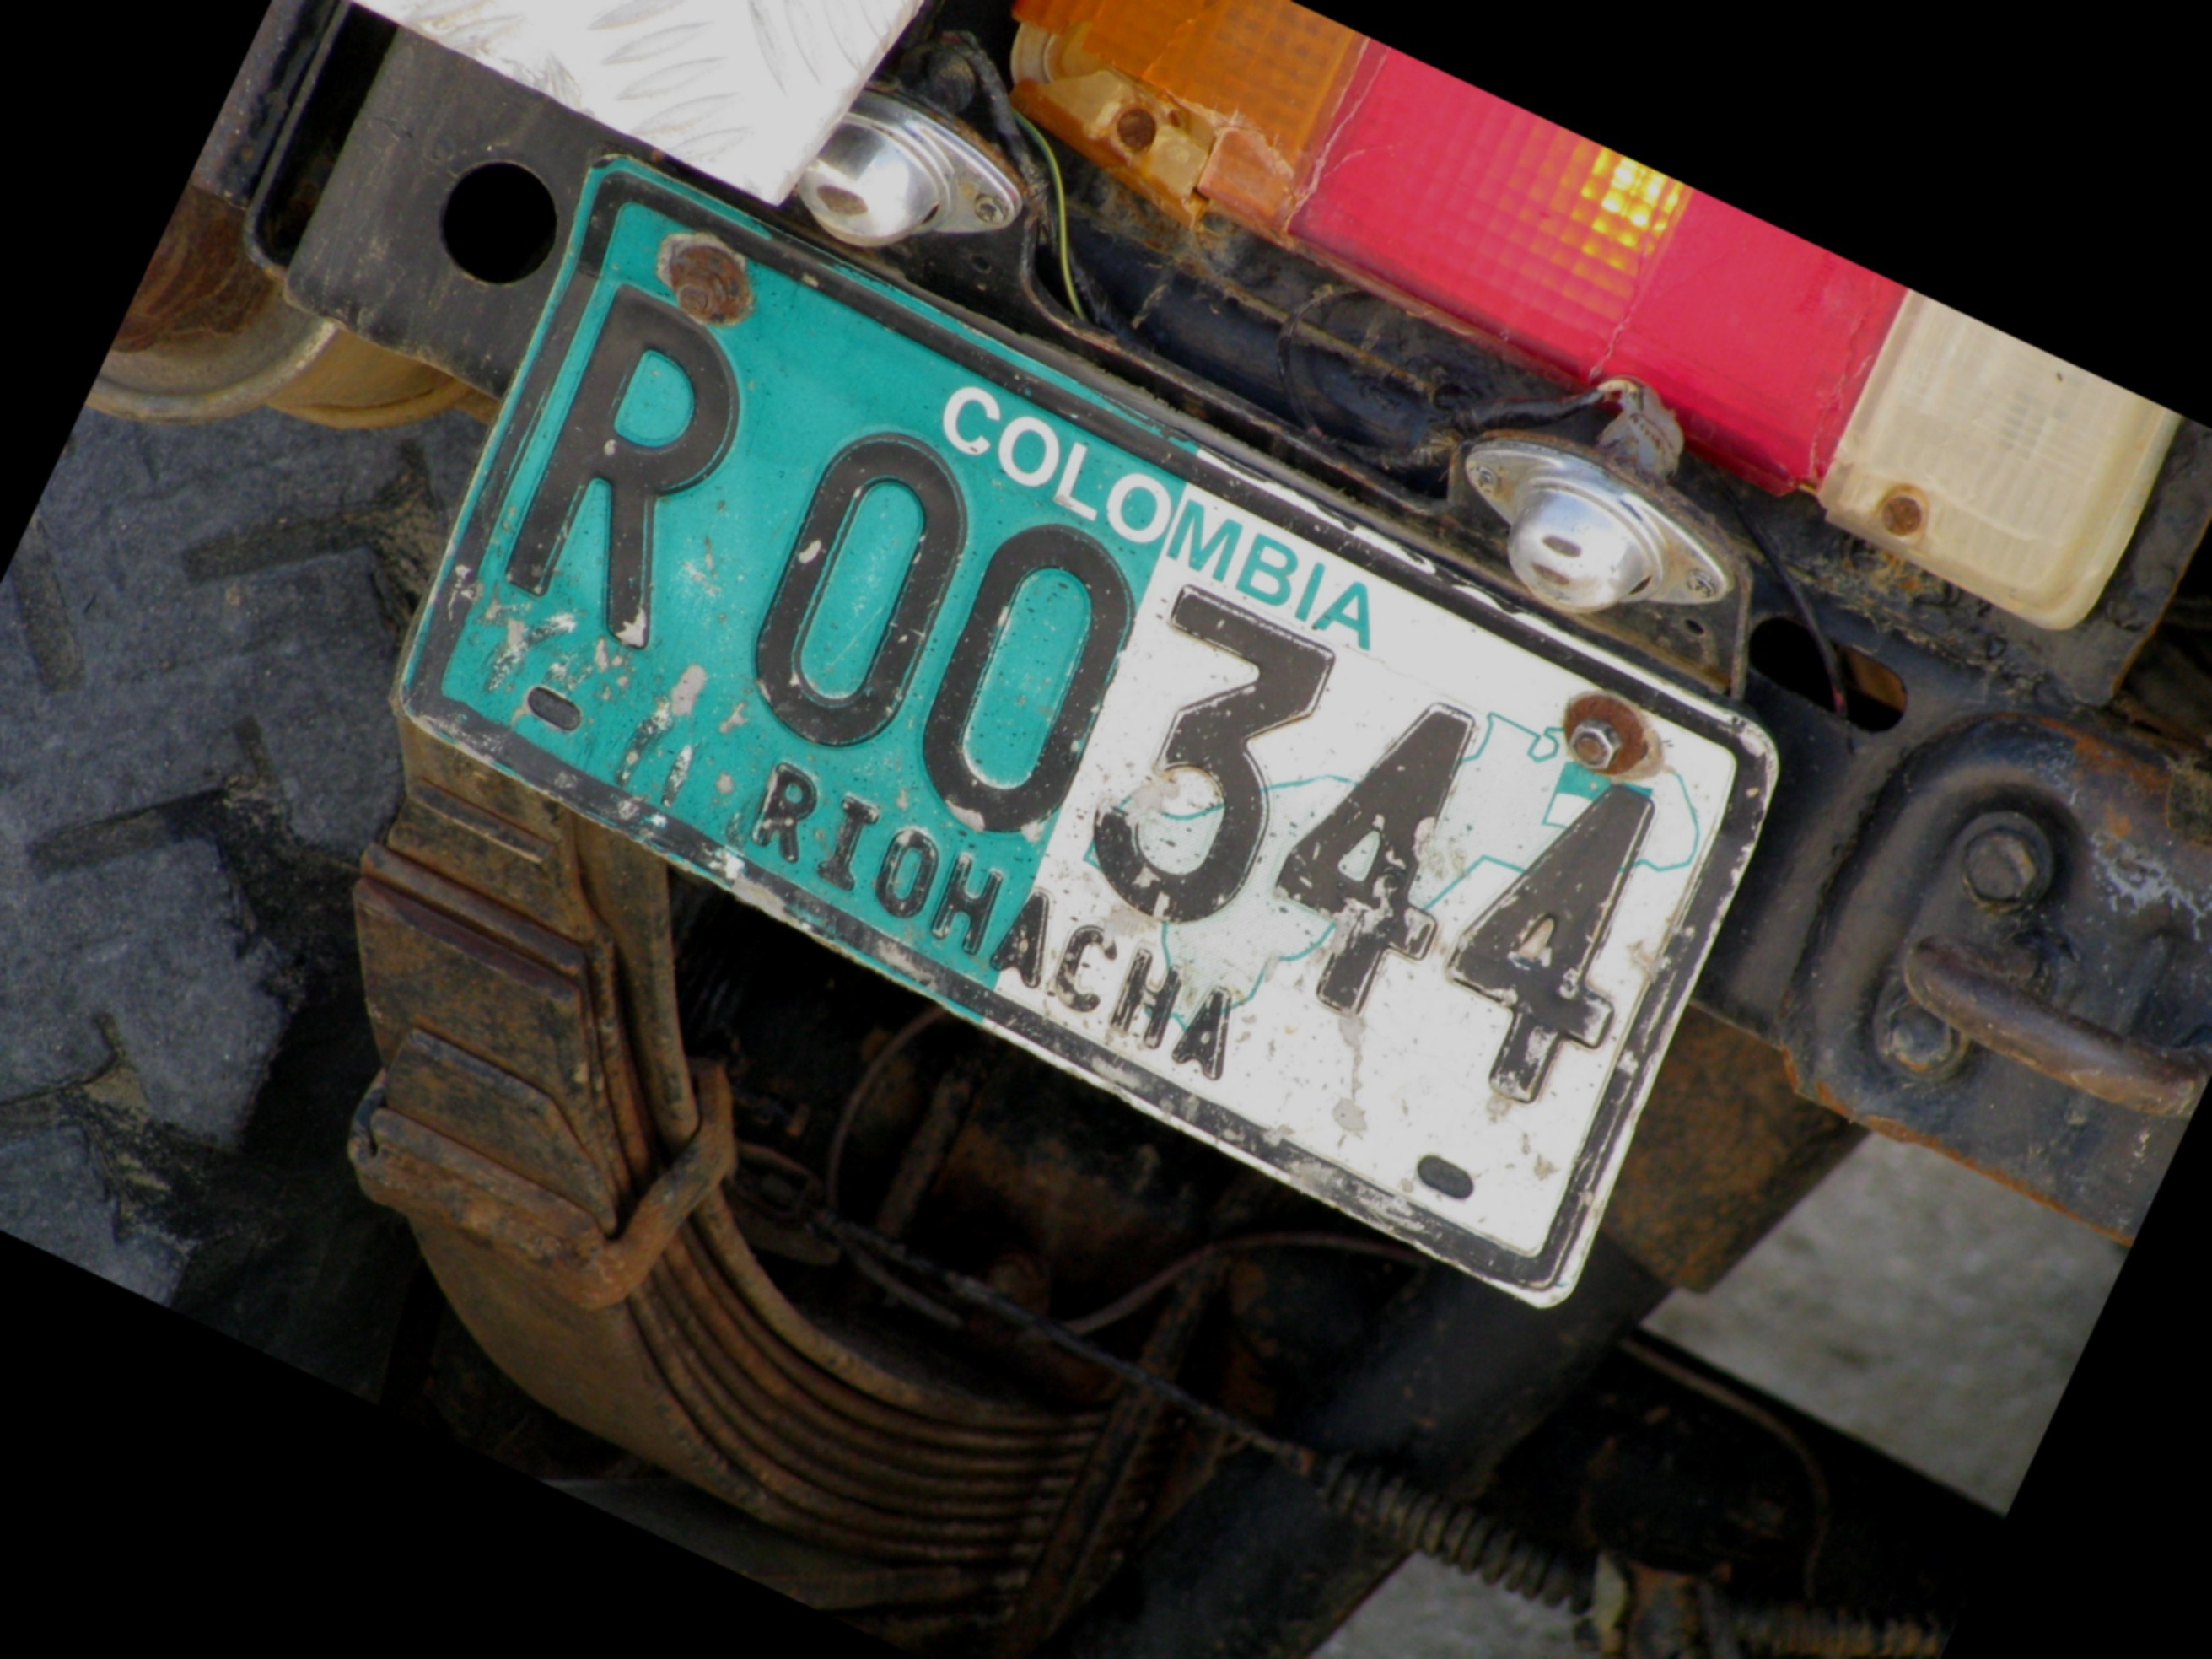placas: (312, 131, 1851, 1329)
